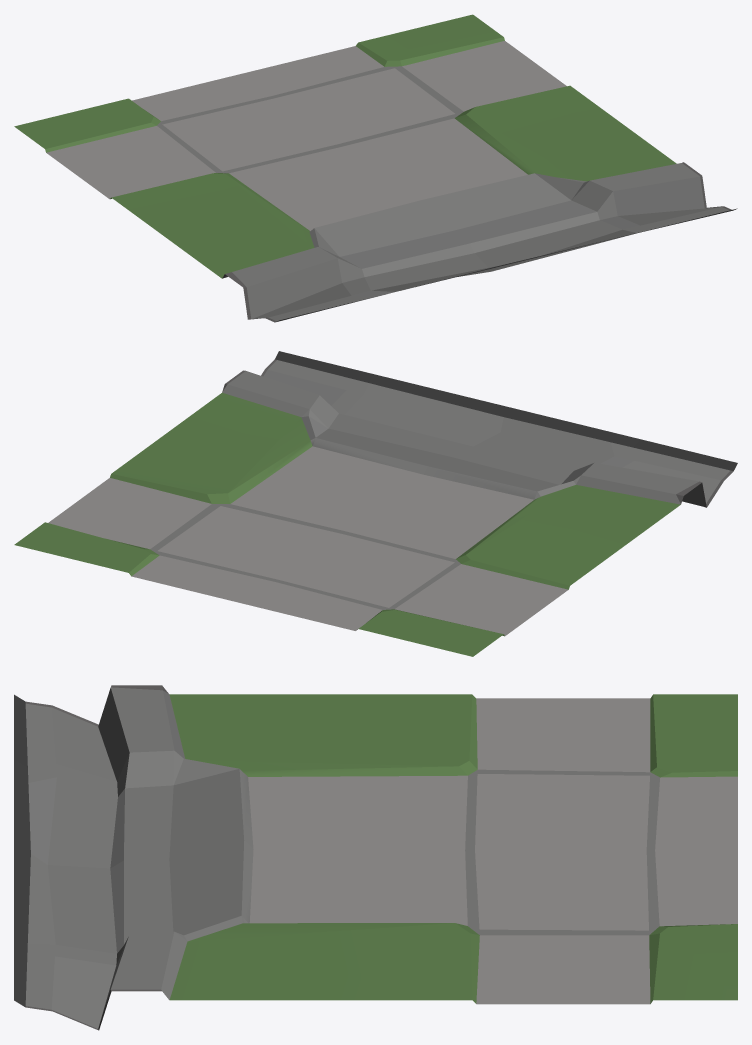
The model's file is SM_Env_Sidewalk_Driveway_01.fbx.
3 views of the same model, one above another, from view 1: azimuth 30°, elevation 25°; view 2: azimuth 150°, elevation 25°; view 3: azimuth 270°, elevation 25° (orthographic). The views are drawn at different scales.
Visible parts, largest first — view 1: SM_Env_Sidewalk_Driveway_01; view 2: SM_Env_Sidewalk_Driveway_01; view 3: SM_Env_Sidewalk_Driveway_01.
Part boxes in pixels (left/top/right/bottom): SM_Env_Sidewalk_Driveway_01: left=14, top=14, right=737, bottom=322; SM_Env_Sidewalk_Driveway_01: left=14, top=351, right=737, bottom=656; SM_Env_Sidewalk_Driveway_01: left=14, top=685, right=737, bottom=1030.
Bounding box in the file's own units: 500 × 30 × 500.
